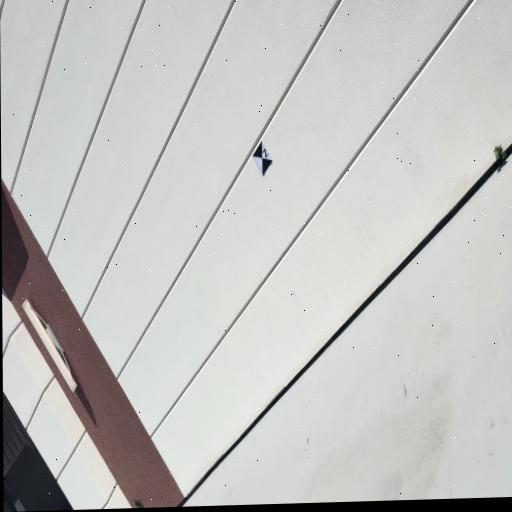target7: (253, 140, 273, 177)
